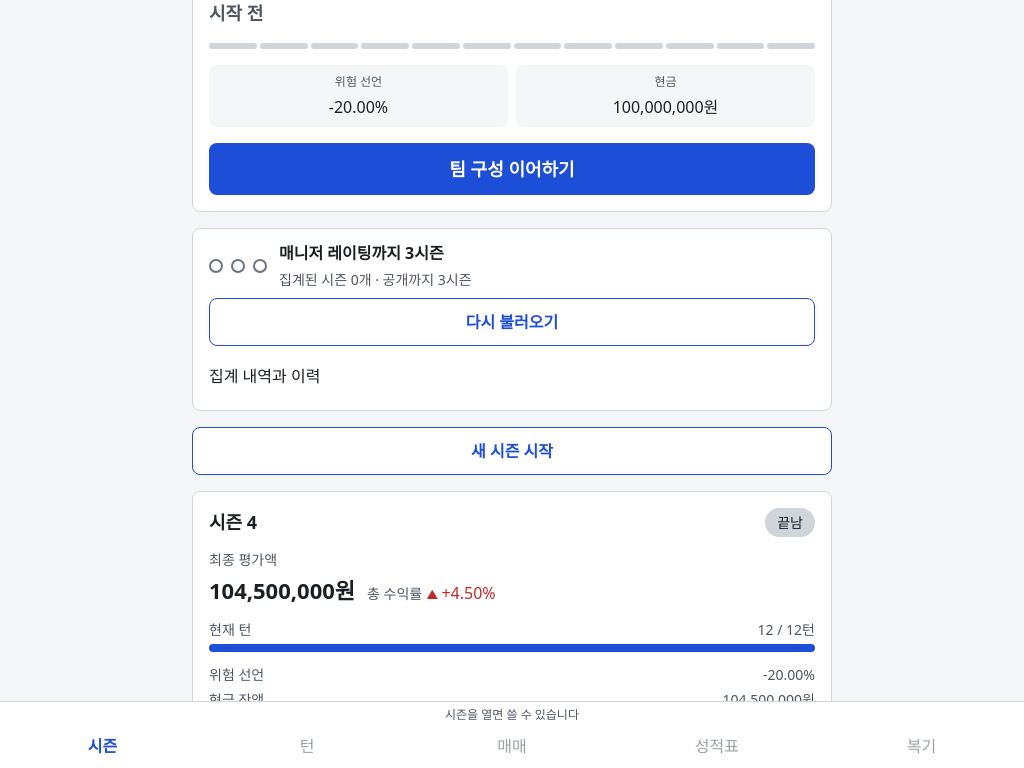
Scenario: SeasonsPage rating card › S9: pendingSeasons, noScoreCount and notStartedCount of 1 are printed; the pending line offers a reload
This screenshot has width=1024, height=768.
(page scrolled)
Click the button "다시 불러오기": (512, 322) [209,298,815,346]
(page scrolled)
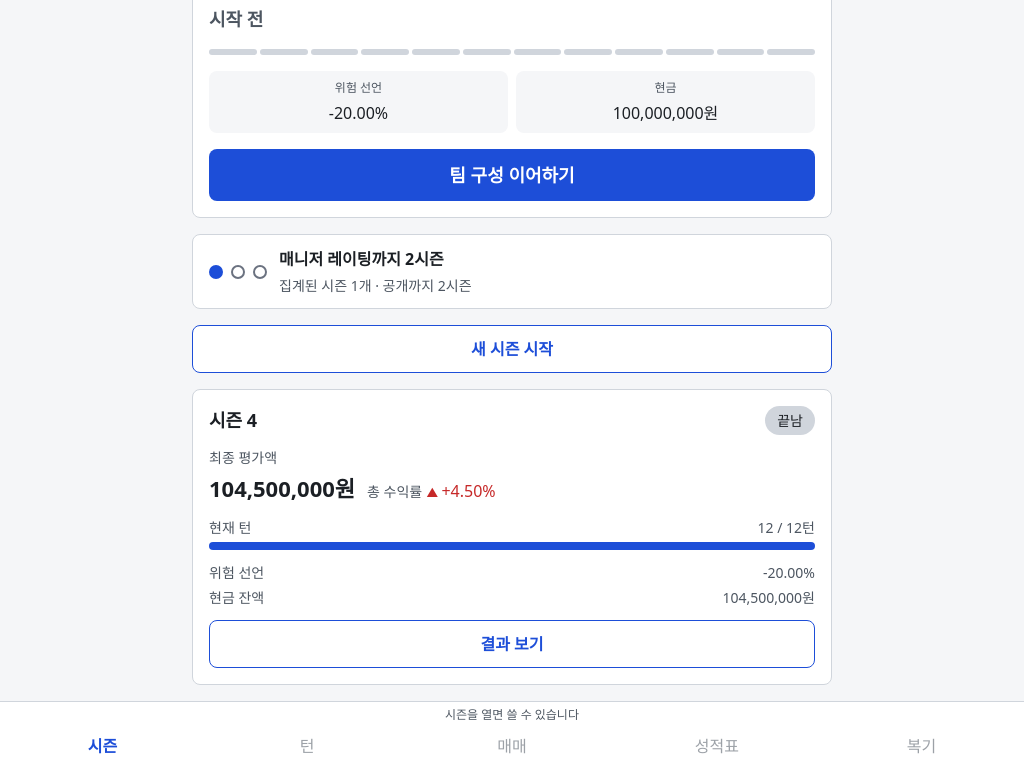
Check: the text "집계된 시즌 1개 · 공개까지 2시즌" is shown, box [279,275,472,296]
Check: the button "다시 불러오기" is gone
